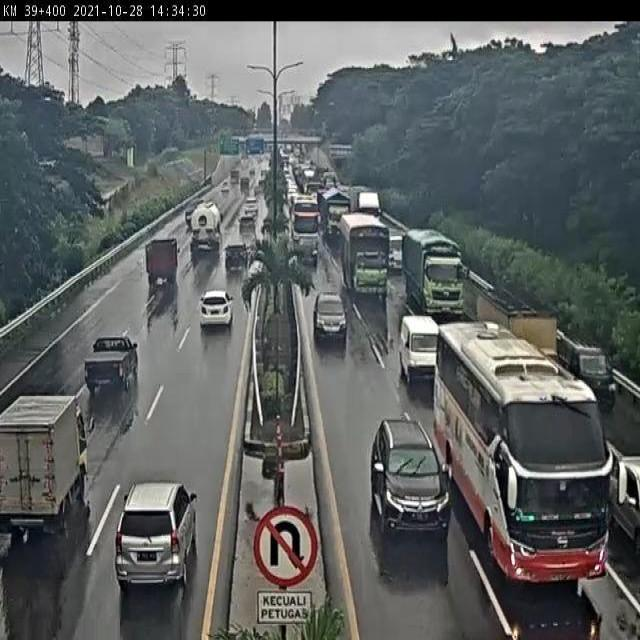big bus: (436, 321, 612, 584)
big truck: (475, 284, 558, 357), (401, 228, 465, 317), (340, 212, 392, 299), (189, 200, 223, 253)
car: (368, 412, 451, 535), (112, 482, 198, 590), (560, 329, 617, 403), (84, 333, 140, 392), (400, 315, 441, 384), (314, 292, 347, 344), (199, 288, 237, 331), (224, 239, 248, 268), (297, 235, 320, 264)
small truck: (0, 392, 90, 533), (145, 236, 182, 287)
